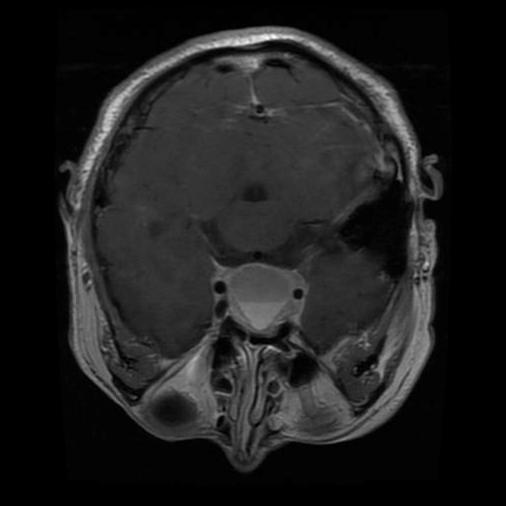Tumour-Pituitary: (208, 258, 313, 325)
